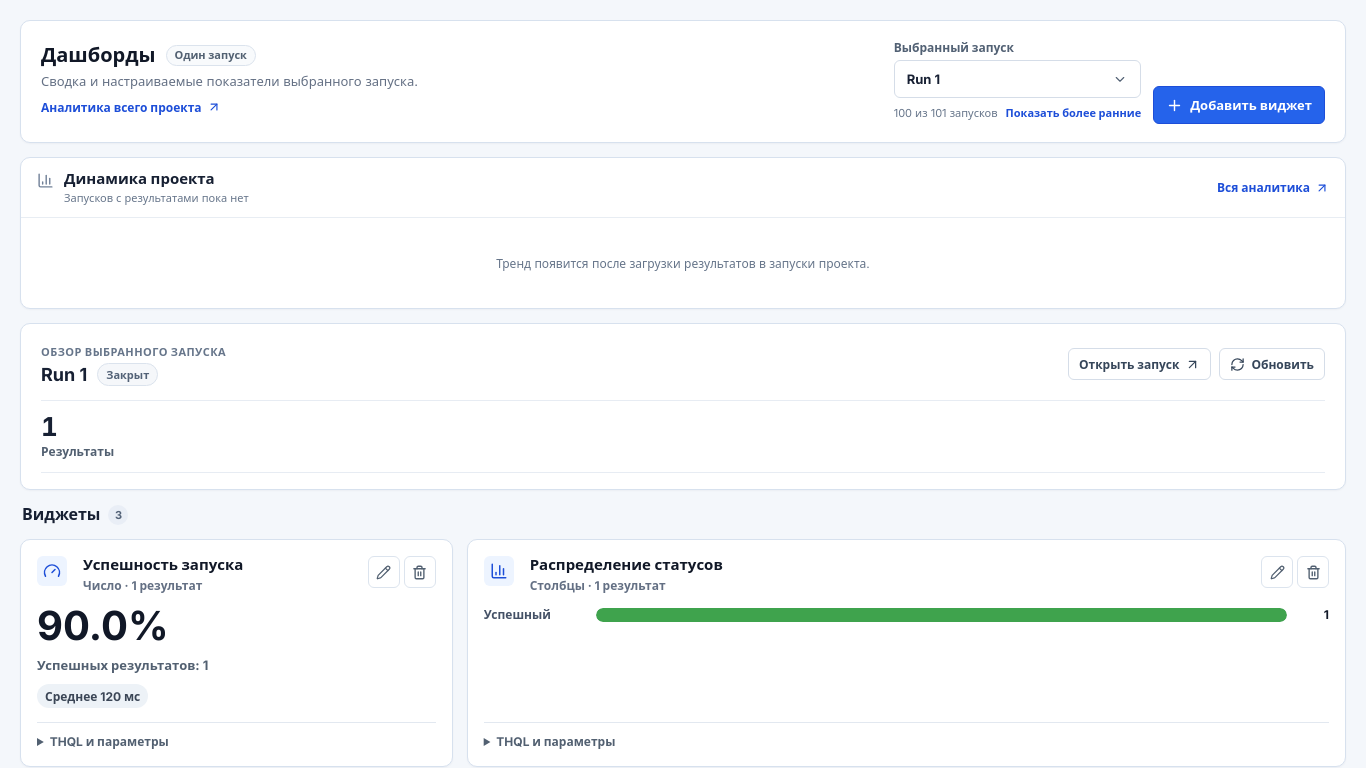
Test: dashboard aggregate states › loads another catalog page and opens a launch beyond the initial 25
Click the button "Показать более ранние" at (1073, 113), box [1006,102,1141,124]
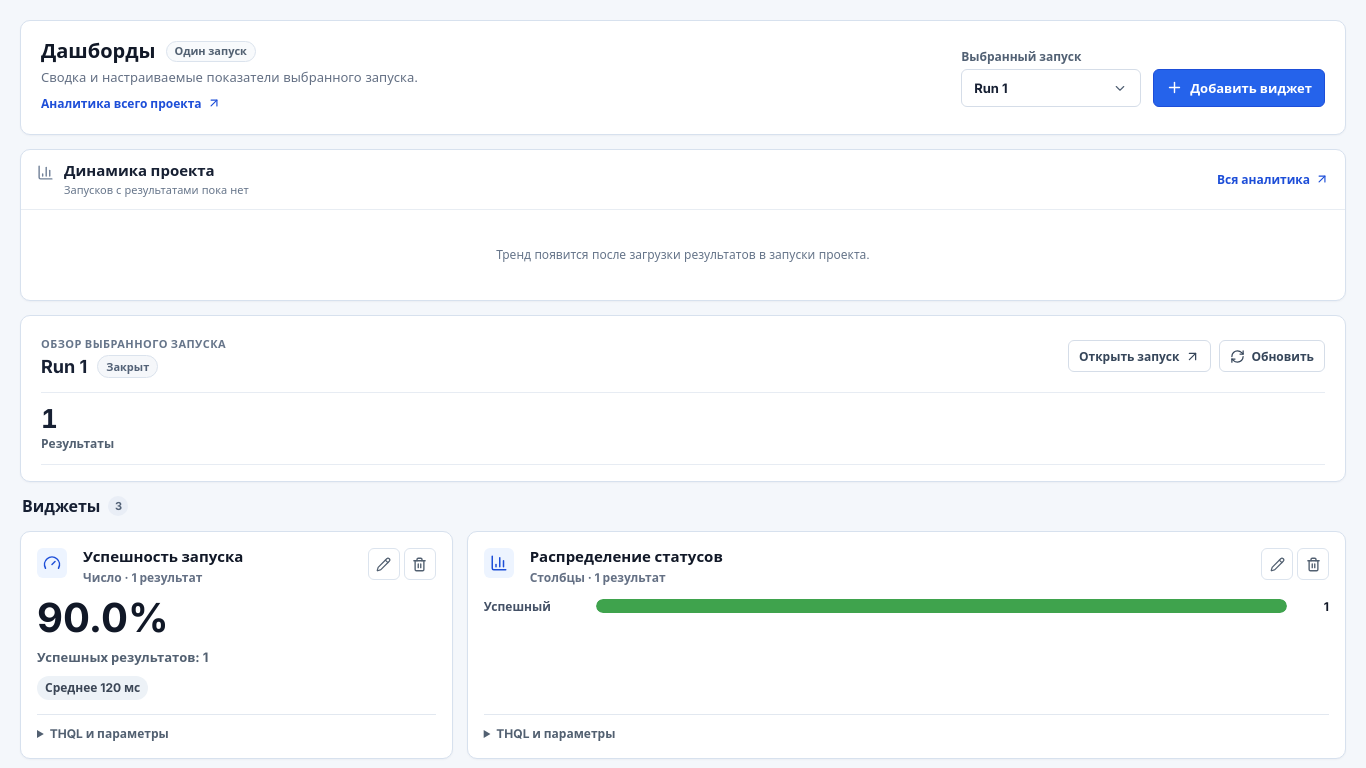
Select "Old run" in the dropdown labelled "Выбранный запуск" at (1051, 88), box [961,69,1141,107]
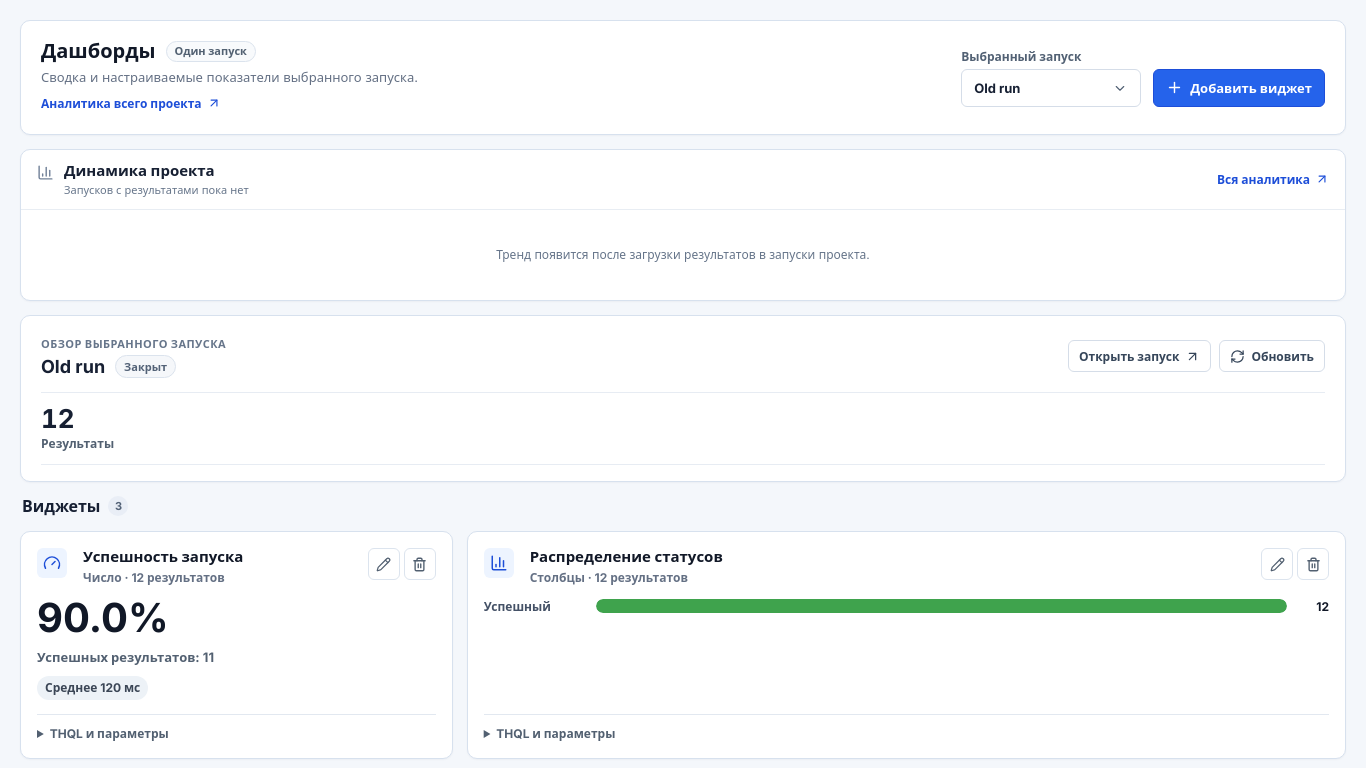
Check: the heading "Old run" is shown, box [41,355,105,378]
